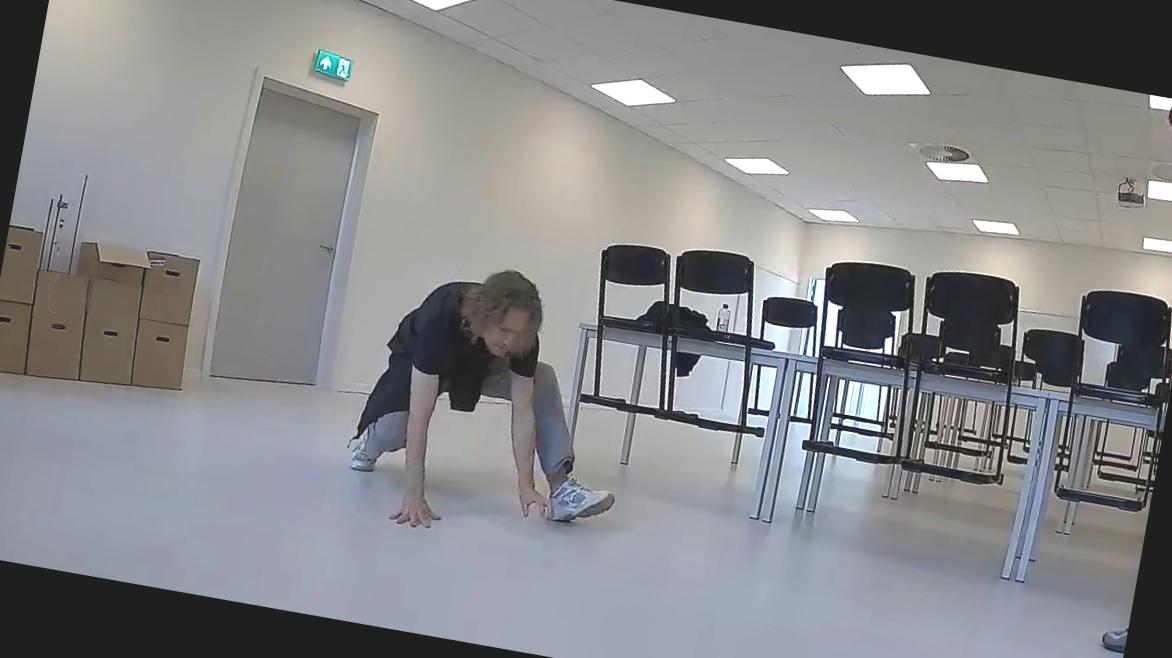korban: (331, 248, 660, 567), (1073, 98, 1172, 656)
